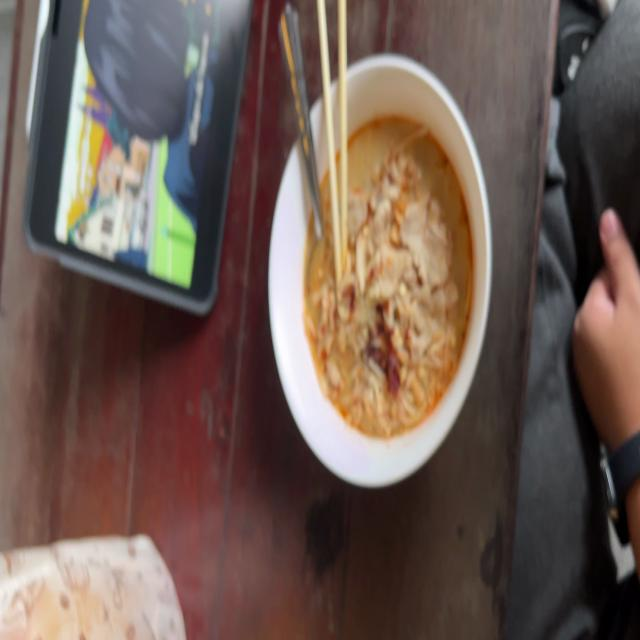noodle: (280, 65, 493, 479)
